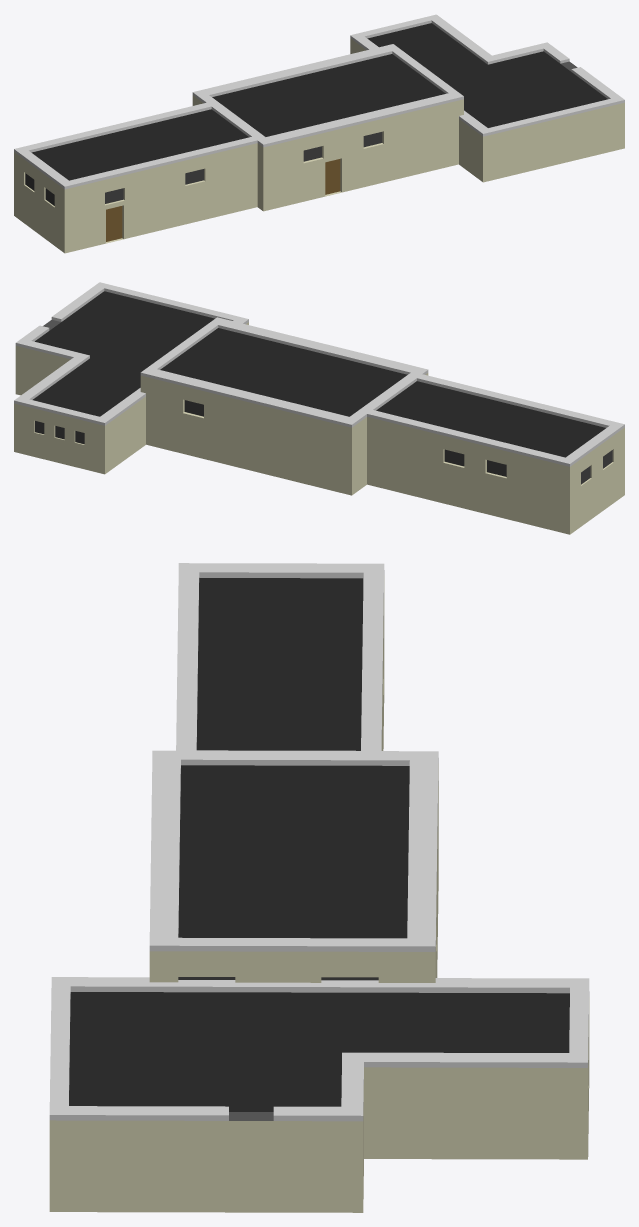
Rendered from house7.obj.
3 views of the same model, one above another, from view 1: azimuth 30°, elevation 25°; view 2: azimuth 150°, elevation 25°; view 3: azimuth 270°, elevation 25° (orthographic). The views are drawn at different scales.
Parts seen in each view (by area): view 1: unnamed_object1_pasted__pasted__pasted__pasted__pasted__pasted__, unnamed_object1_pasted__pasted__pasted__pasted__pasted__lambert4, unnamed_object1_pasted__pasted__pasted__lambert9SG6, unnamed_object1_pasted__pasted__pasted__lambert3SG30, unnamed_object1_pasted__pasted__pasted__pasted__pasted__lambert6, unnamed_object1_pasted__pasted__pasted__pasted__pasted__lambert5; view 2: unnamed_object1_pasted__pasted__pasted__pasted__pasted__pasted__, unnamed_object1_pasted__pasted__pasted__pasted__pasted__lambert4, unnamed_object1_pasted__pasted__pasted__lambert9SG6, unnamed_object1_pasted__pasted__pasted__lambert3SG30, unnamed_object1_pasted__pasted__pasted__lambert5SG67; view 3: unnamed_object1_pasted__pasted__pasted__pasted__pasted__pasted__, unnamed_object1_pasted__pasted__pasted__lambert9SG6, unnamed_object1_pasted__pasted__pasted__pasted__pasted__lambert4, unnamed_object1_pasted__pasted__pasted__lambert3SG30.
Boxes of the visible parts, box(x1,y1,x2,y2) form: unnamed_object1_pasted__pasted__pasted__pasted__pasted__pasted__: box(14, 44, 463, 253); unnamed_object1_pasted__pasted__pasted__pasted__pasted__lambert4: box(367, 23, 607, 127); unnamed_object1_pasted__pasted__pasted__lambert9SG6: box(350, 38, 624, 182); unnamed_object1_pasted__pasted__pasted__lambert3SG30: box(350, 14, 624, 136); unnamed_object1_pasted__pasted__pasted__pasted__pasted__lambert6: box(106, 159, 340, 241); unnamed_object1_pasted__pasted__pasted__pasted__pasted__lambert5: box(105, 132, 382, 203); unnamed_object1_pasted__pasted__pasted__pasted__pasted__pasted__: box(140, 317, 624, 534); unnamed_object1_pasted__pasted__pasted__pasted__pasted__lambert4: box(33, 291, 214, 416); unnamed_object1_pasted__pasted__pasted__lambert9SG6: box(14, 322, 248, 474); unnamed_object1_pasted__pasted__pasted__lambert3SG30: box(14, 282, 248, 425); unnamed_object1_pasted__pasted__pasted__lambert5SG67: box(35, 400, 612, 484); unnamed_object1_pasted__pasted__pasted__pasted__pasted__pasted__: box(149, 563, 438, 982); unnamed_object1_pasted__pasted__pasted__lambert9SG6: box(49, 997, 589, 1212); unnamed_object1_pasted__pasted__pasted__pasted__pasted__lambert4: box(69, 992, 569, 1111); unnamed_object1_pasted__pasted__pasted__lambert3SG30: box(49, 977, 589, 1121).
Bounding box in the file's own units: 28.74 × 3.47 × 12.7.
